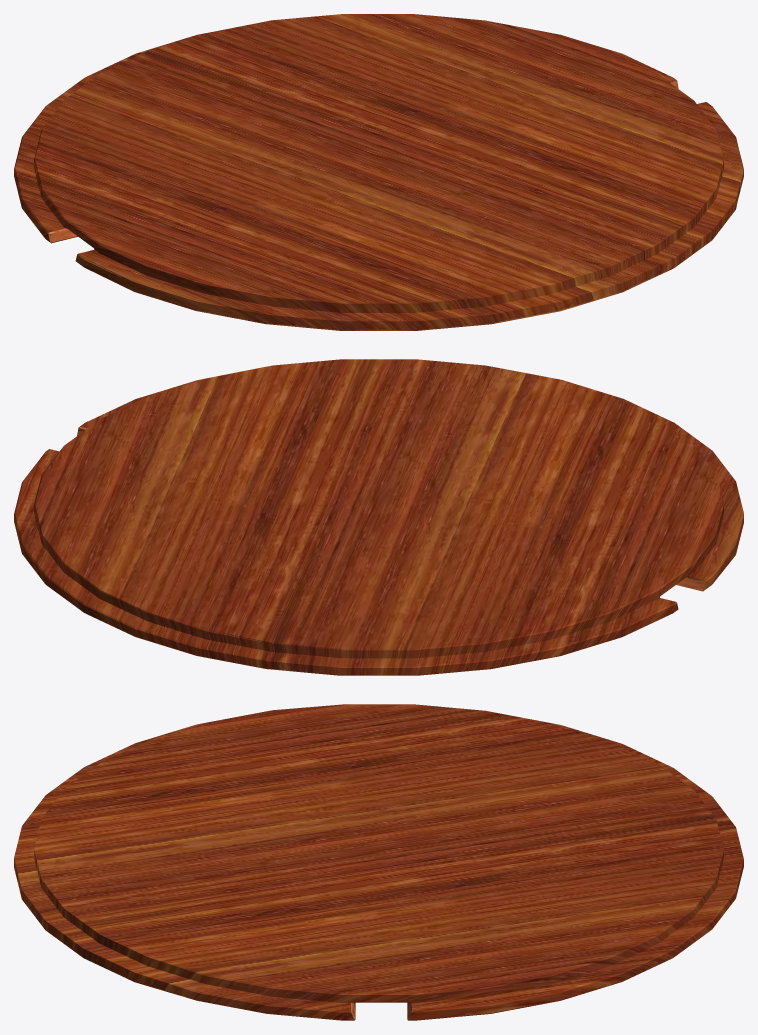
Rendered from yuandeng_J_D_zuoban.FBX.
3 renders of one model, top to bottom at view 1: azimuth 30°, elevation 25°; view 2: azimuth 150°, elevation 25°; view 3: azimuth 270°, elevation 25°, orthographic.
Visible parts, largest first — view 1: yuandeng_J_D_zuoban; view 2: yuandeng_J_D_zuoban; view 3: yuandeng_J_D_zuoban.
Part boxes in pixels (left/top/right/bottom): yuandeng_J_D_zuoban: left=14, top=14, right=743, bottom=330; yuandeng_J_D_zuoban: left=14, top=359, right=743, bottom=675; yuandeng_J_D_zuoban: left=14, top=704, right=743, bottom=1020.
Size of the model in its own units: 35.36 by 1.01 by 35.55.
Materials: 2 (2 with a texture image).
